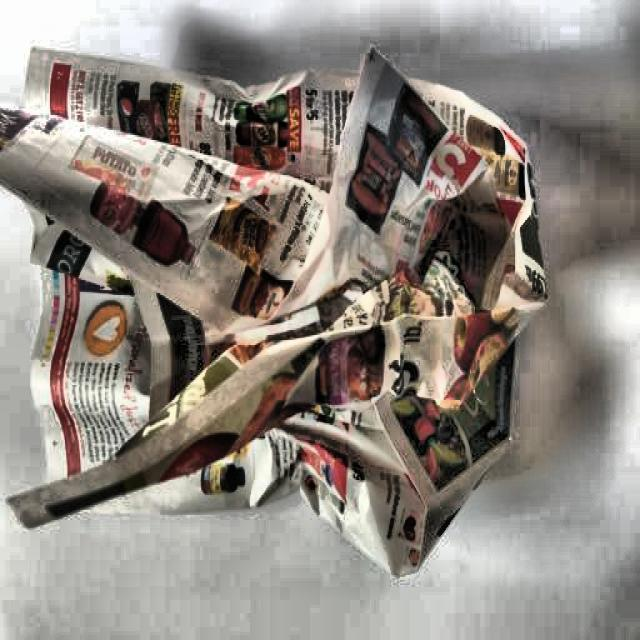paper: (20, 51, 512, 533)
